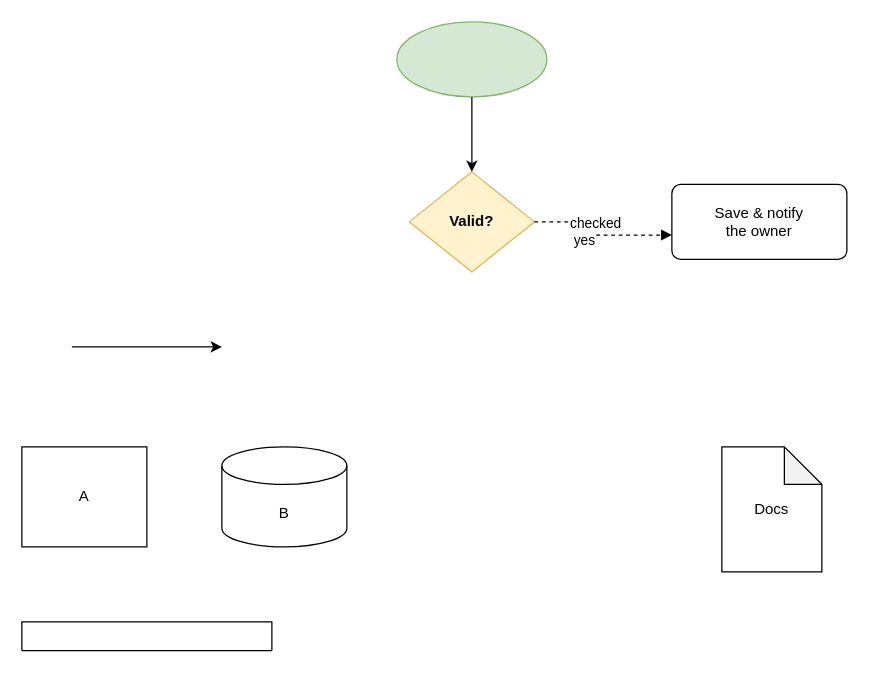
Some shapes in this 869 by 673 pixel diagram are drawn without their labels. Here are the shapes that lost their labels. From the top down, the centre of each, then its label:
At point (471, 59): "Start".
At point (146, 636): "Pool".
